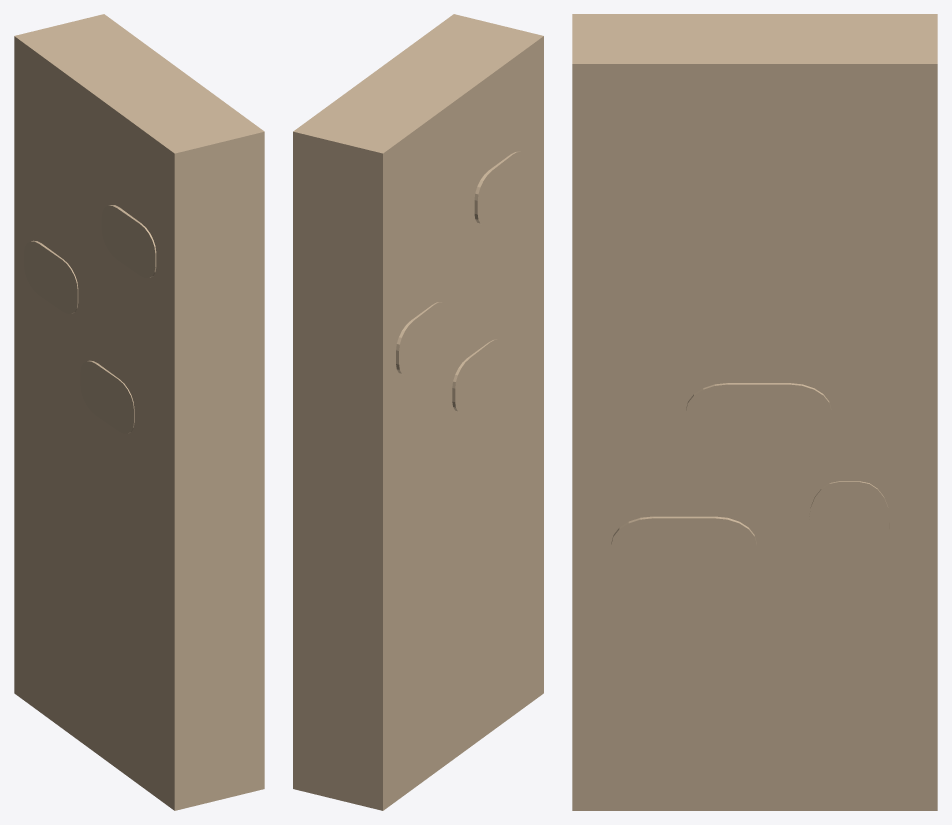
The model's file is wall4.glb.
The picture shows the model from 3 angles, left to right: view 1: azimuth 30°, elevation 25°; view 2: azimuth 150°, elevation 25°; view 3: azimuth 270°, elevation 25°; orthographic projection. The views are drawn at different scales.
Parts seen in each view (by area): view 1: wall_Body; view 2: wall_Body; view 3: wall_Body.
Boxes of the visible parts, x1,y1,x2,y2 form: wall_Body: (14,14,264,810); wall_Body: (293,14,543,810); wall_Body: (572,14,937,810).
Bounding box in the file's own units: 0.3597 × 2.33 × 1.03.
Materials: 1 (1 with a texture image).
